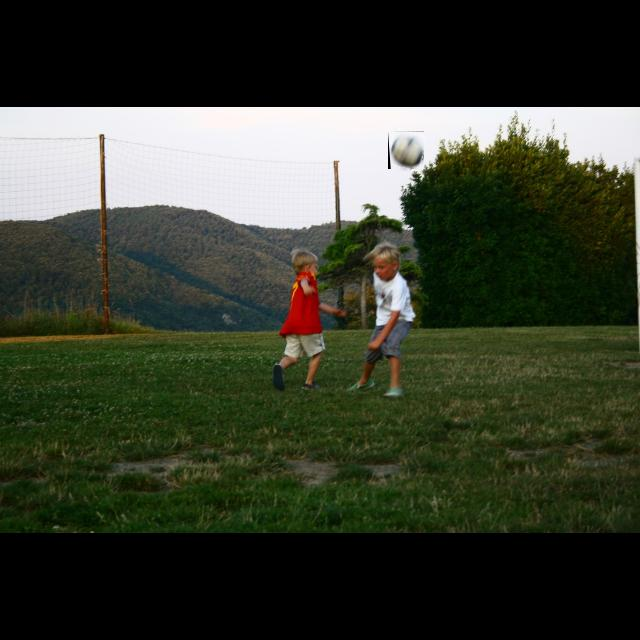Football: (388, 131, 424, 169)
